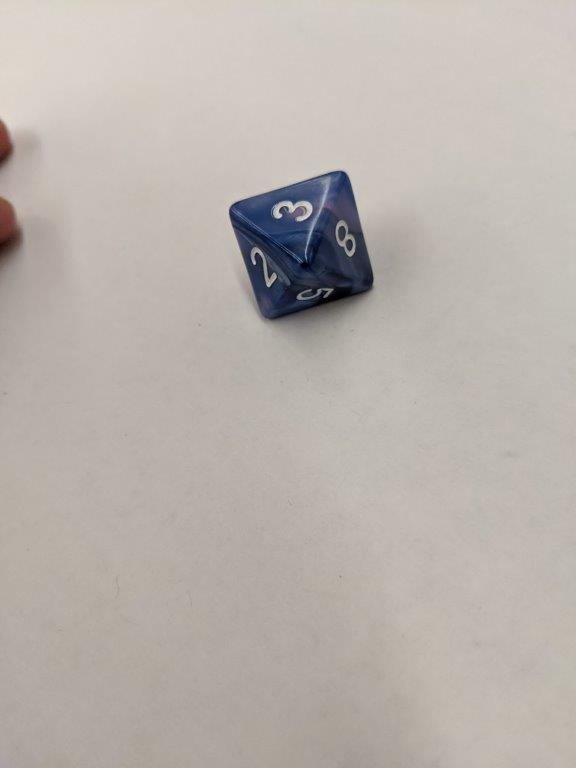d8-3: (231, 170, 374, 319)
